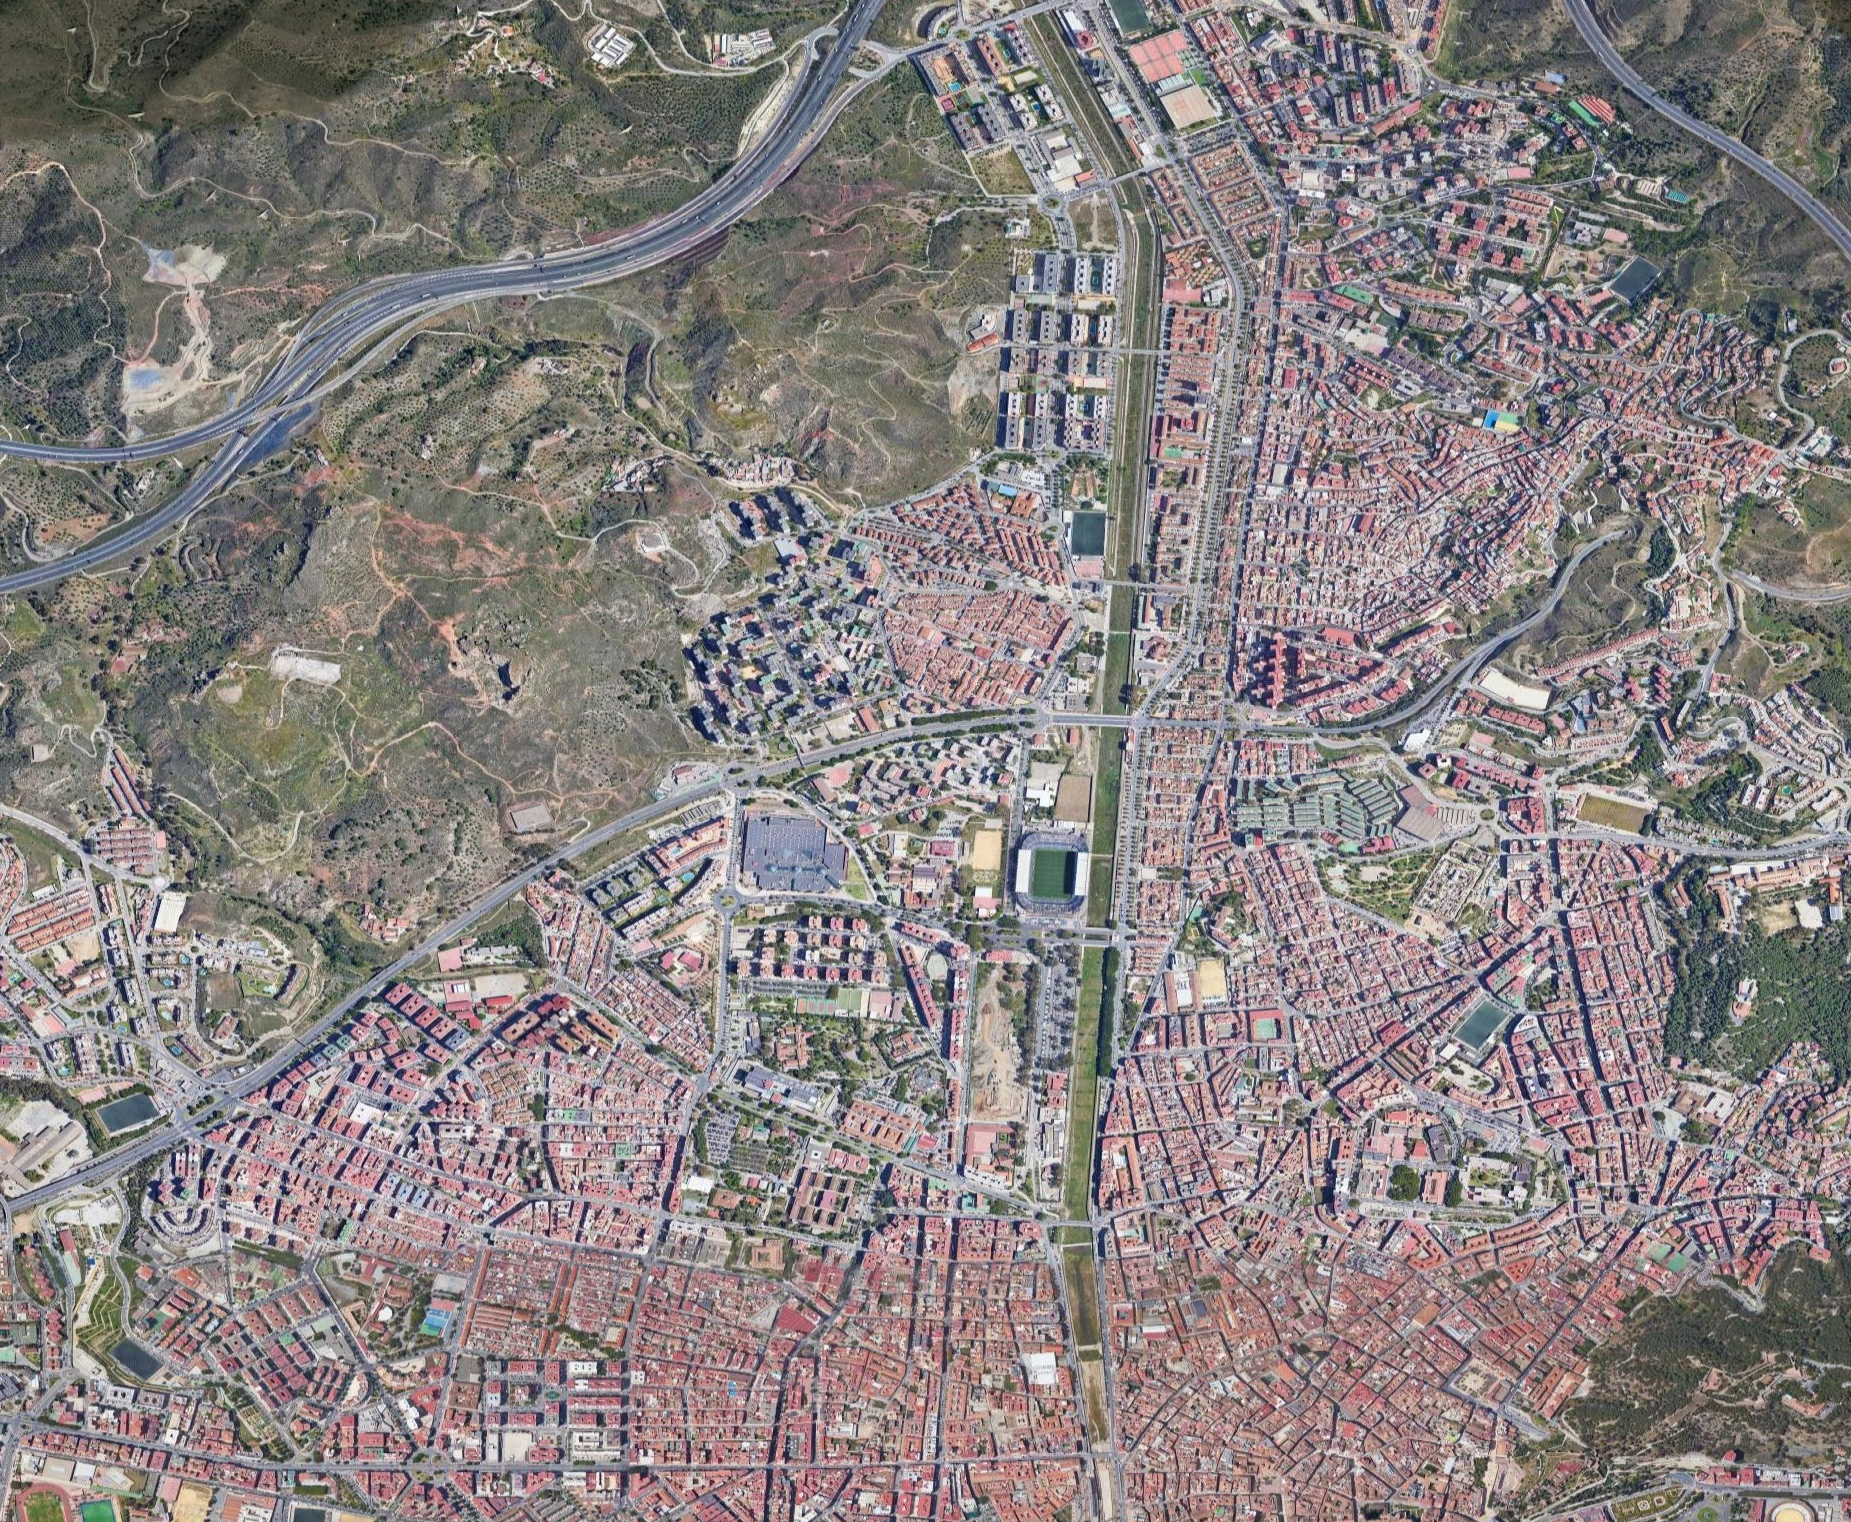bridge: (1068, 690, 1168, 753)
motorway: (2, 235, 543, 610), (2, 896, 469, 1239), (466, 2, 975, 303), (463, 692, 975, 945), (1551, 2, 1851, 274), (978, 669, 1450, 773), (1447, 518, 1627, 707)
